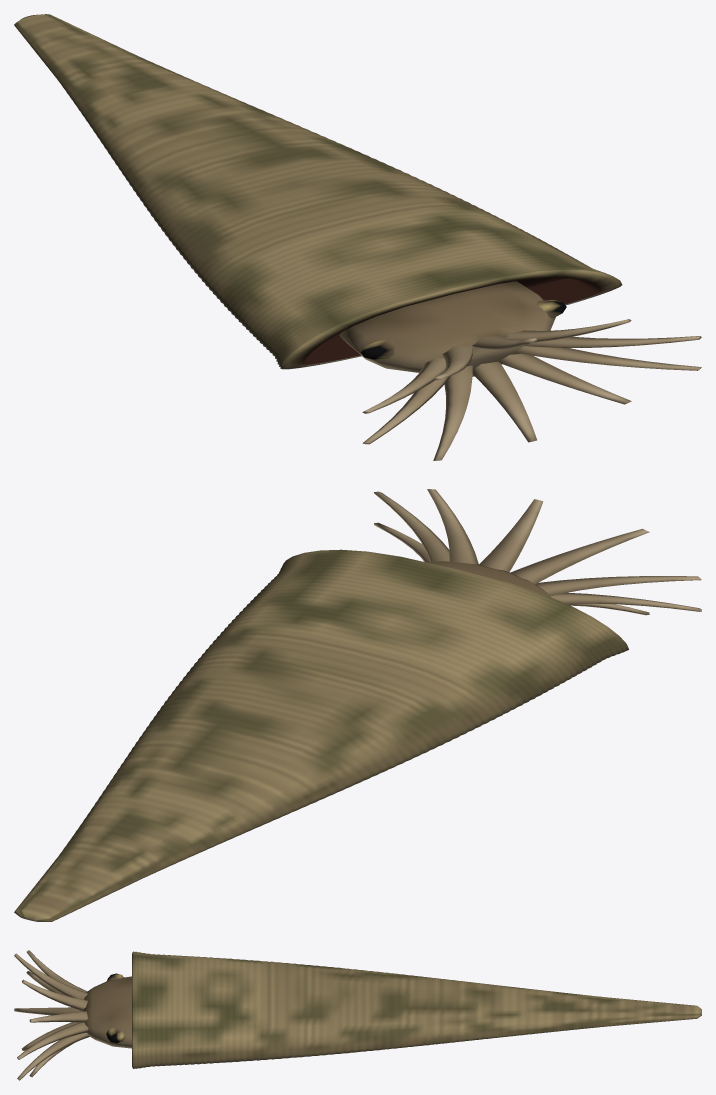
File: GoniocerasAnceps.fbx
3 views of the same model, one above another, from view 1: azimuth 30°, elevation 25°; view 2: azimuth 150°, elevation 25°; view 3: azimuth 270°, elevation 25° (orthographic). The views are drawn at different scales.
Parts seen in each view (by area): view 1: GoniocerasAnceps; view 2: GoniocerasAnceps; view 3: GoniocerasAnceps.
Part boxes in pixels (x1=…): GoniocerasAnceps: x1=14, y1=14, x2=701, y2=460; GoniocerasAnceps: x1=14, y1=489, x2=701, y2=921; GoniocerasAnceps: x1=14, y1=950, x2=701, y2=1080.
Size of the model in its own units: 0.7011 by 0.2018 by 1.81.
